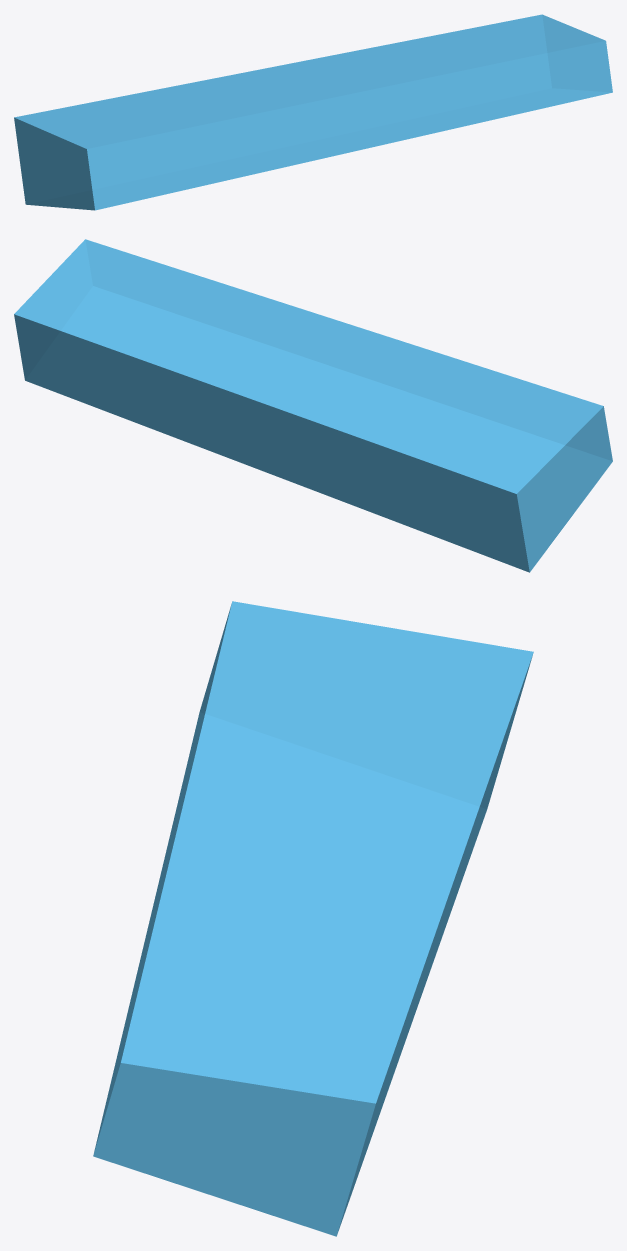
The model's file is Event_420604493_HErechit_51.fbx.
The picture shows the model from 3 angles, top to bottom: view 1: azimuth 30°, elevation 25°; view 2: azimuth 150°, elevation 25°; view 3: azimuth 270°, elevation 25°; orthographic projection. The views are drawn at different scales.
Parts seen in each view (by area): view 1: Model; view 2: Model; view 3: Model.
Part boxes in pixels (x1,y1,x2,y2): Model: [14, 14, 612, 210]; Model: [14, 239, 612, 572]; Model: [93, 601, 533, 1236].
Size of the model in its own units: 2.05 by 0.445 by 0.795.
